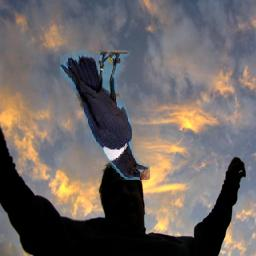Crow: (60, 50, 150, 180)
